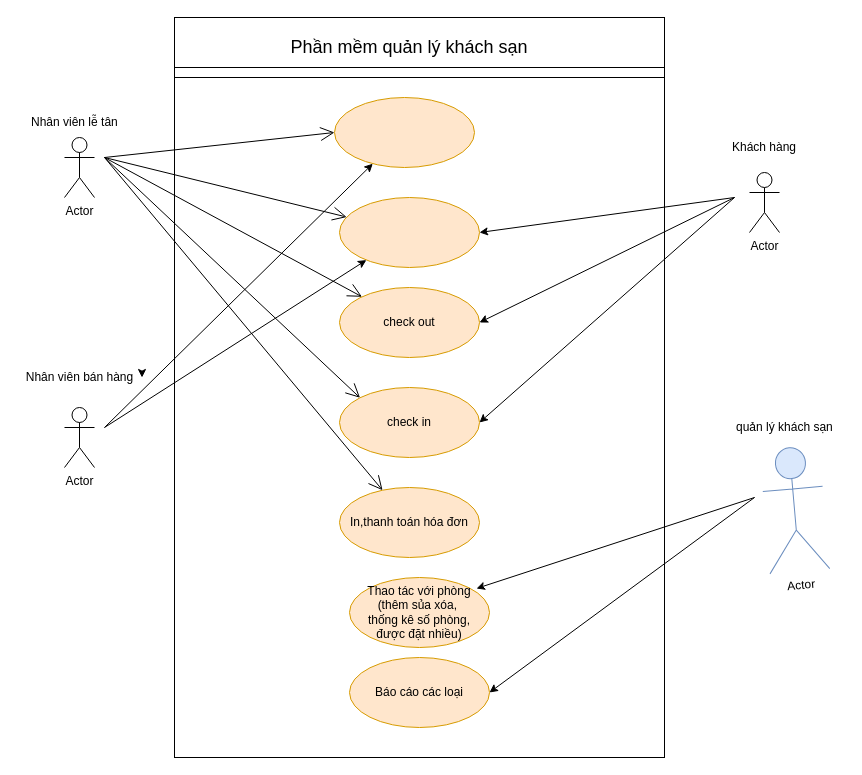
Some shapes in this 862 by 775 pixel diagram are drawn without their labels. The shapes that lost their labels are listed below. From the top down, each one's centre as x and y in pixels, then its label:
At (x=404, y=132): "Tìm phòng".
At (x=409, y=232): "Đặt phòng".
